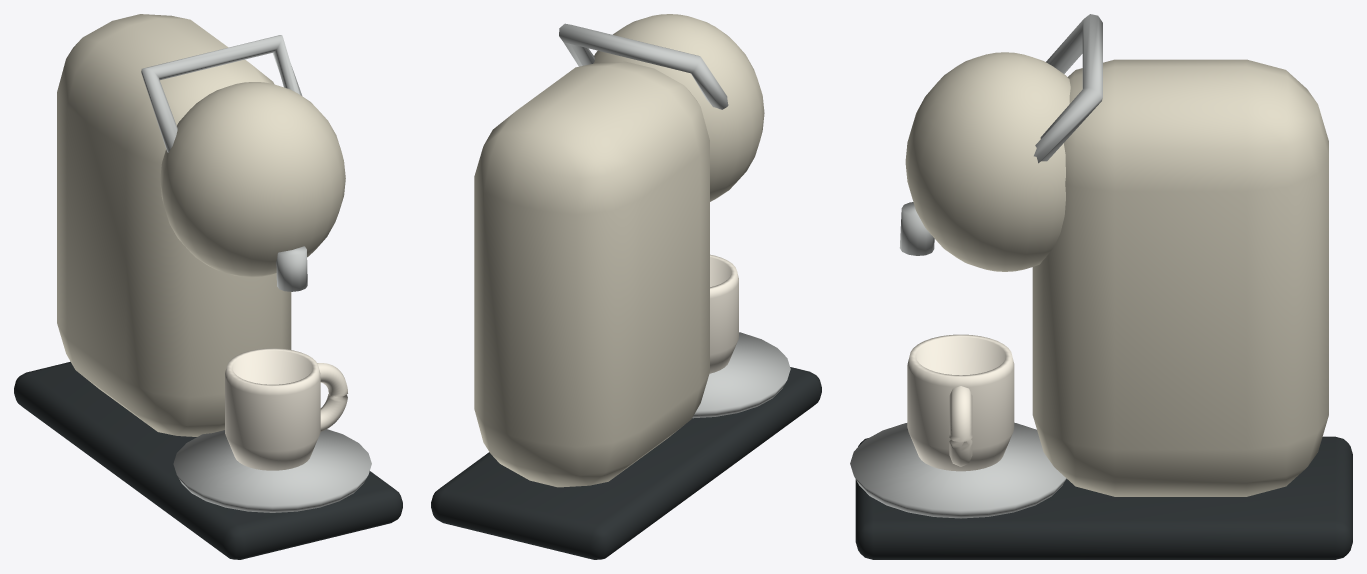
Rendered from capsule_machine.glb.
The picture shows the model from 3 angles, left to right: view 1: azimuth 30°, elevation 25°; view 2: azimuth 150°, elevation 25°; view 3: azimuth 270°, elevation 25°; orthographic projection. The views are drawn at different scales.
Visible parts, largest first — view 1: capsule_machine__body, capsule_machine__technical, capsule_machine__accent, capsule_machine__ceramic; view 2: capsule_machine__body, capsule_machine__technical, capsule_machine__accent, capsule_machine__ceramic; view 3: capsule_machine__body, capsule_machine__technical, capsule_machine__accent, capsule_machine__ceramic.
Boxes of the visible parts, x1,y1,x2,y2 form: capsule_machine__body: (57, 14, 345, 436); capsule_machine__technical: (14, 361, 402, 559); capsule_machine__accent: (141, 35, 371, 512); capsule_machine__ceramic: (225, 348, 347, 470); capsule_machine__body: (474, 14, 764, 487); capsule_machine__technical: (431, 367, 821, 559); capsule_machine__accent: (559, 23, 790, 418); capsule_machine__ceramic: (709, 254, 738, 373); capsule_machine__body: (905, 52, 1328, 496); capsule_machine__technical: (855, 436, 1352, 559); capsule_machine__accent: (850, 14, 1102, 518); capsule_machine__ceramic: (907, 334, 1014, 471).
Size of the model in its own units: 0.12 by 0.2692 by 0.263.
